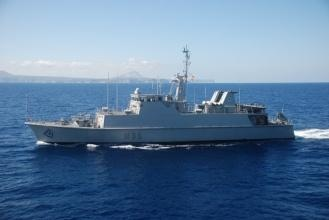warship: (22, 47, 294, 144)
